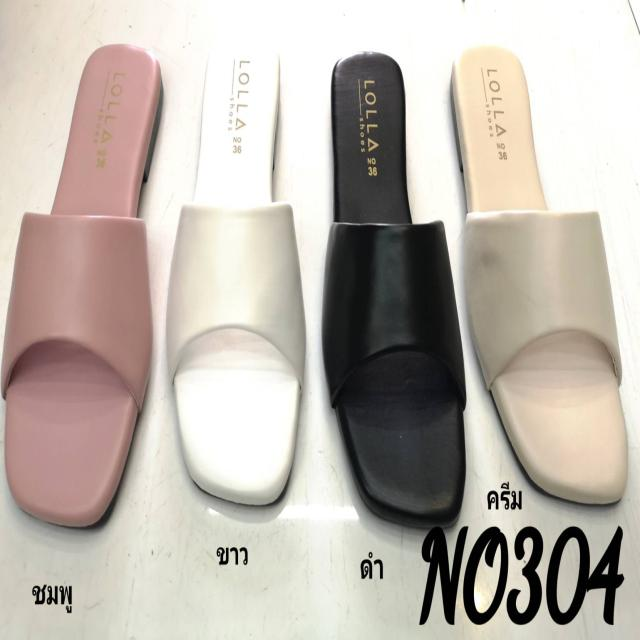black: (456, 44, 629, 502), (325, 47, 468, 525)
pink: (0, 42, 161, 534)
white: (171, 38, 302, 513)
